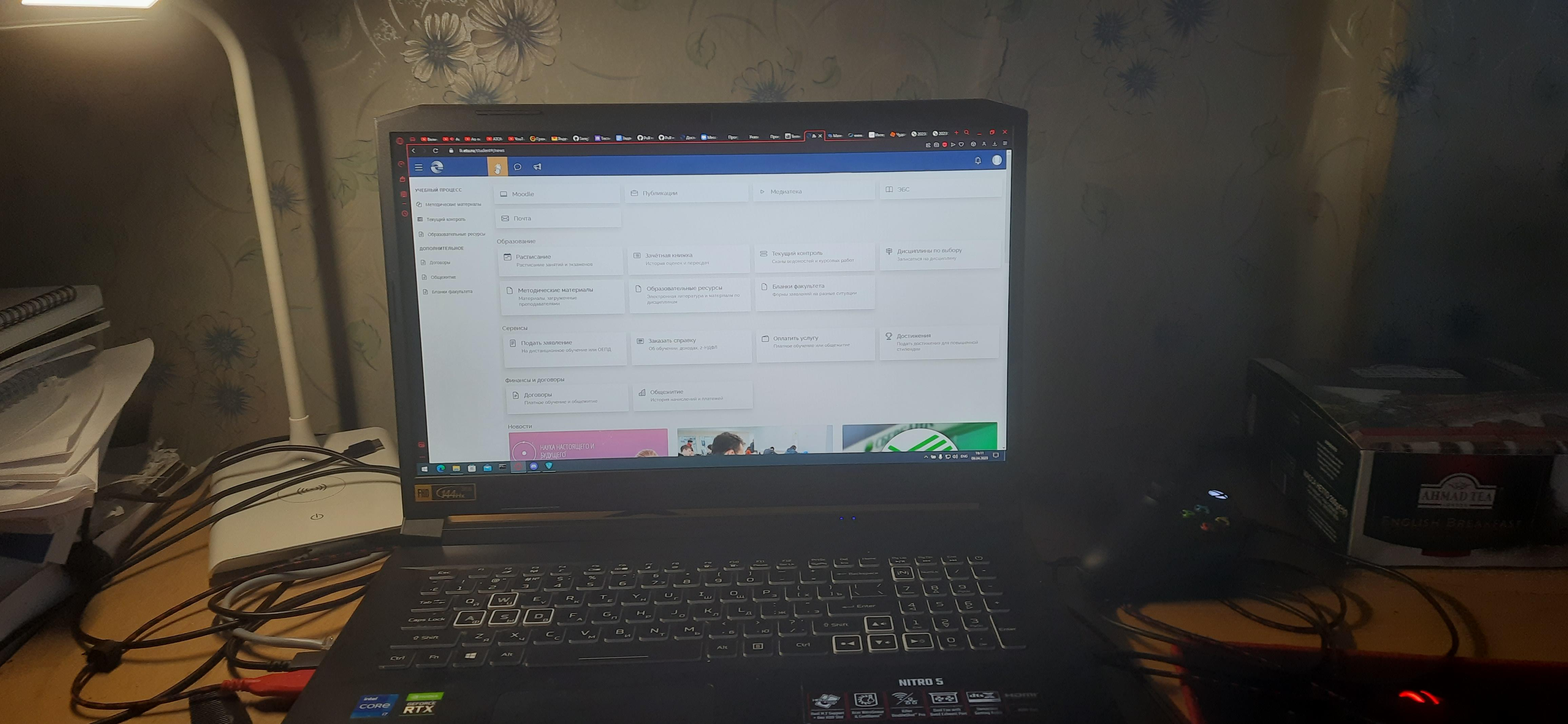monitor: (370, 98, 1029, 529)
